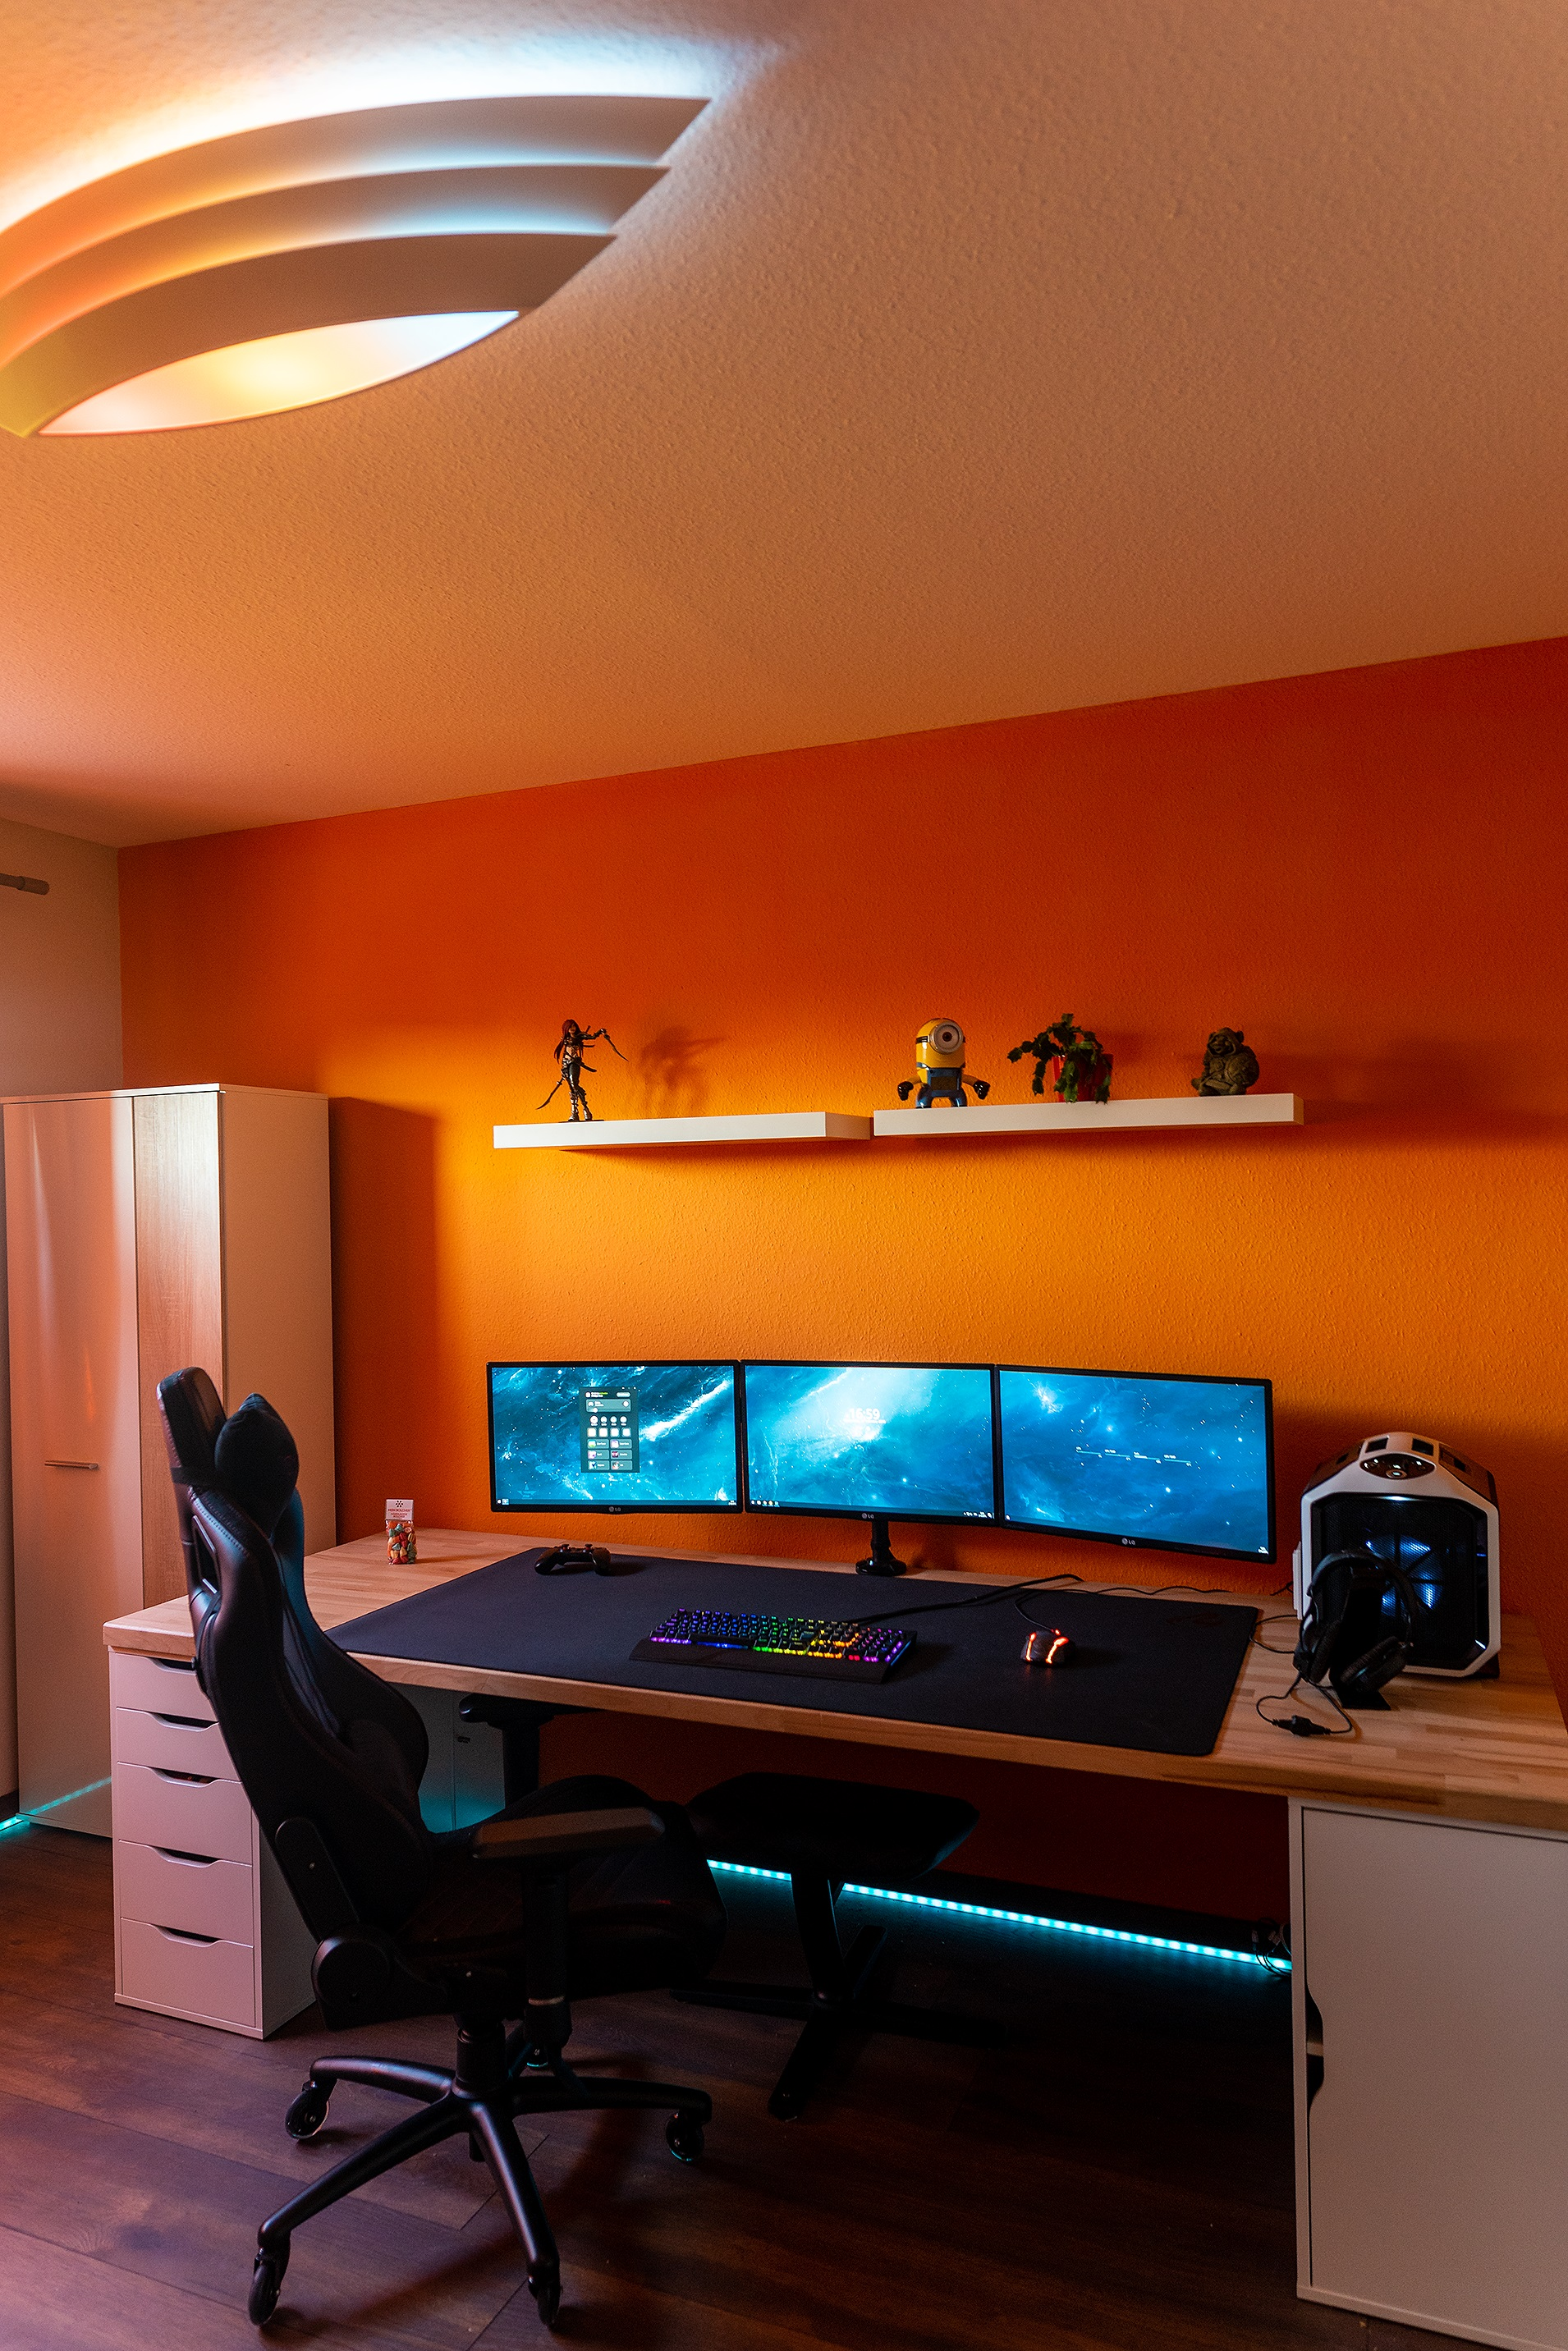Chair (Gaming): (147, 1364, 719, 2325)
Decoration (Miniature): (999, 1001, 1118, 1104), (535, 1011, 626, 1123), (901, 999, 992, 1111), (1186, 1025, 1263, 1095)
Desk (Generic): (100, 1520, 1566, 2314)
Desktop (Windows): (1298, 1429, 1510, 1688)
Footrest: (675, 1767, 990, 2110)
Gaming Controller: (534, 1539, 612, 1581)
Headphones: (1288, 1546, 1421, 1702)
Keyboard (Gaming): (633, 1602, 915, 1688)
Monitor (Landscape): (999, 1370, 1276, 1564), (742, 1357, 997, 1527), (485, 1359, 744, 1513)
Monitor Arm: (850, 1524, 912, 1578)
Mouse (Gaming): (1015, 1623, 1076, 1676)
Storage Drawer: (107, 1646, 514, 2047), (1290, 1798, 1568, 2344)
